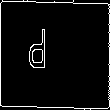P_S: (45, 29, 65, 81)
